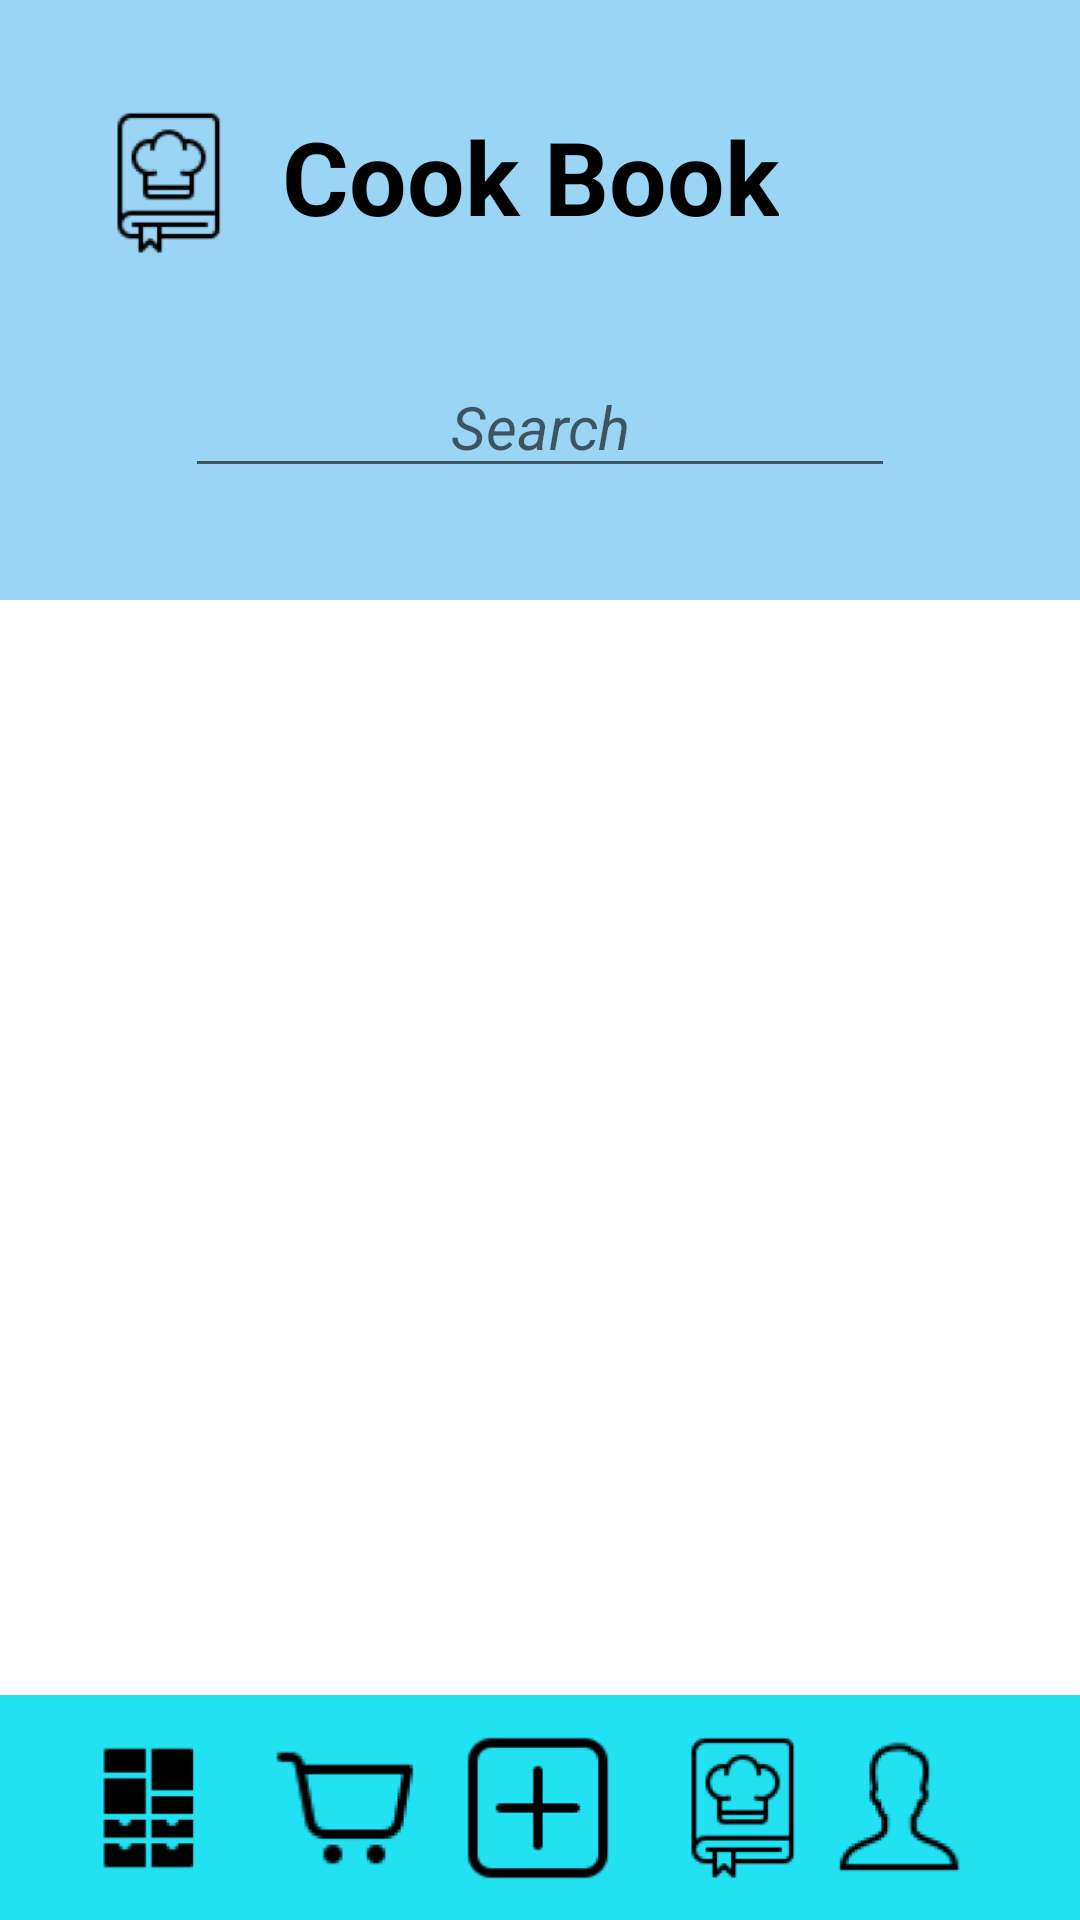

Named icons in this screenshot (1080px×1920px) and their bounding boxes, region(x1, y1, x2, y2):
add: region(467, 1737, 609, 1879)
cart: region(276, 1751, 413, 1865)
pantry: region(103, 1748, 194, 1868)
profile: region(839, 1742, 960, 1871)
